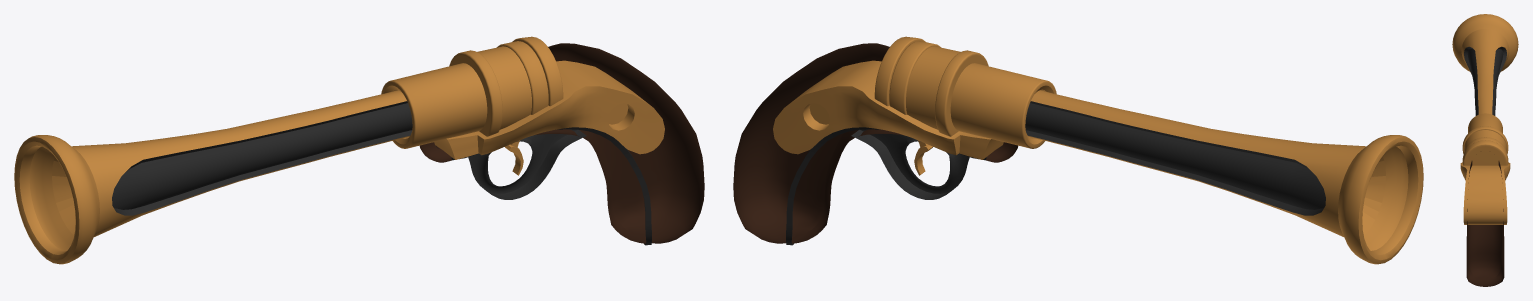
Rendered from shotgun.fbx.
3 renders of one model, left to right at view 1: azimuth 30°, elevation 25°; view 2: azimuth 150°, elevation 25°; view 3: azimuth 270°, elevation 25°, orthographic. The views are drawn at different scales.
Visible parts, largest first — view 1: shotgun; view 2: shotgun; view 3: shotgun.
Part boxes in pixels (bbox=[...]): shotgun: bbox=[14, 36, 704, 264]; shotgun: bbox=[733, 36, 1423, 264]; shotgun: bbox=[1452, 14, 1518, 286].
Bounding box in the file's own units: 568 × 202 × 99.6.
